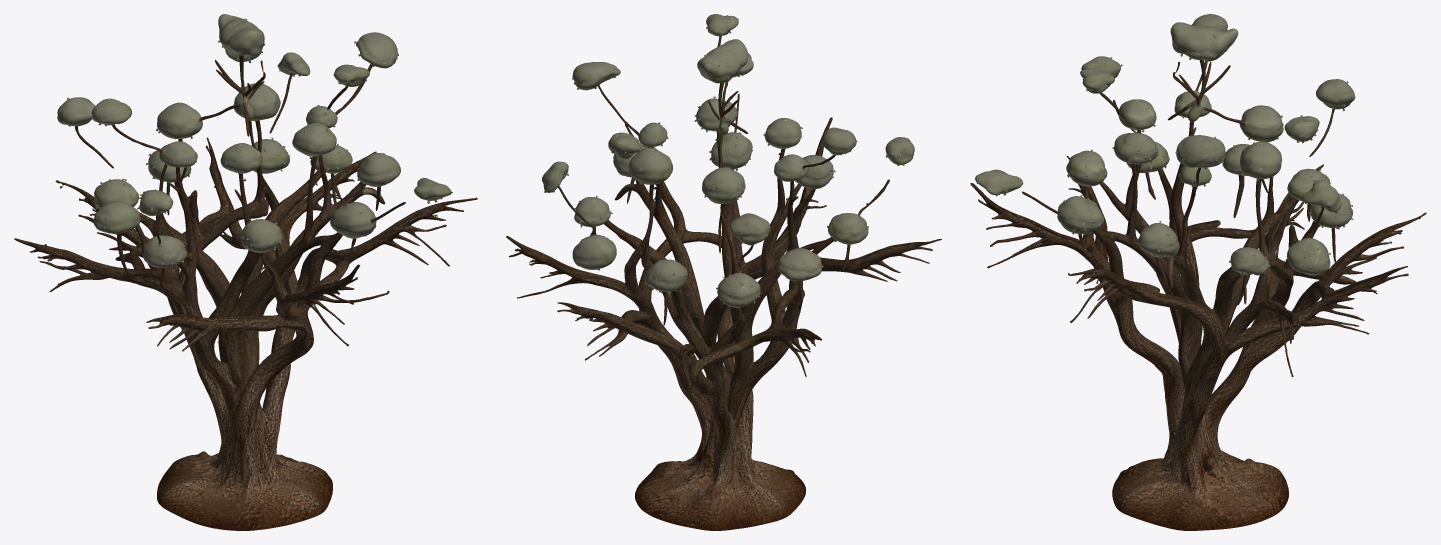
File: _rejected_tree_pot.glb
The picture shows the model from 3 angles, left to right: view 1: azimuth 30°, elevation 25°; view 2: azimuth 150°, elevation 25°; view 3: azimuth 270°, elevation 25°; orthographic projection. The views are drawn at different scales.
Visible parts, largest first — view 1: tripo_node_dde5acb5-5ac4-4bc8-a38a-61b06bdf7dd9; view 2: tripo_node_dde5acb5-5ac4-4bc8-a38a-61b06bdf7dd9; view 3: tripo_node_dde5acb5-5ac4-4bc8-a38a-61b06bdf7dd9.
Part boxes in pixels (left/top/right/bottom): tripo_node_dde5acb5-5ac4-4bc8-a38a-61b06bdf7dd9: left=14, top=14, right=477, bottom=530; tripo_node_dde5acb5-5ac4-4bc8-a38a-61b06bdf7dd9: left=506, top=14, right=941, bottom=530; tripo_node_dde5acb5-5ac4-4bc8-a38a-61b06bdf7dd9: left=970, top=14, right=1426, bottom=530.
Size of the model in its own units: 2.7 by 3.5 by 3.09.
1 material, 1 textured.
